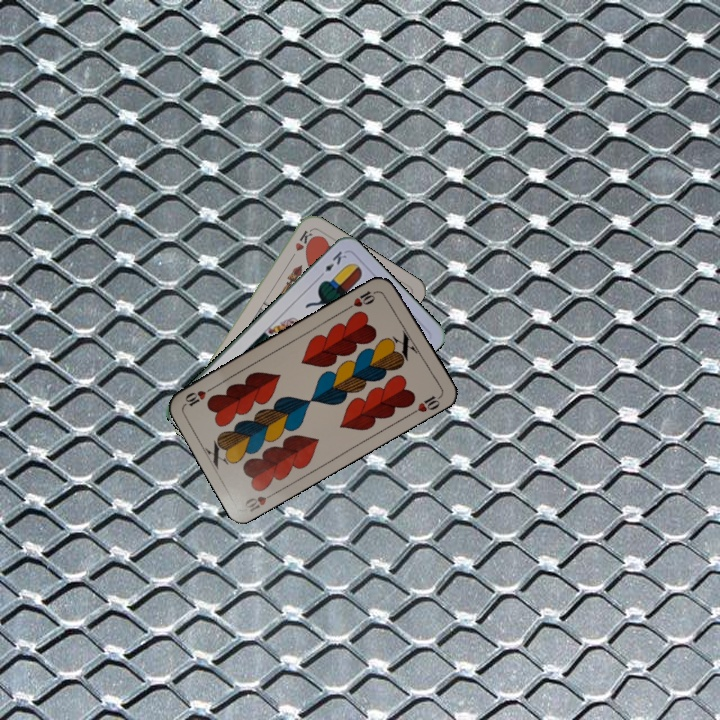EK: (314, 246, 349, 281)
H10: (239, 487, 280, 515), (344, 286, 381, 312)
HK: (286, 227, 315, 263)
